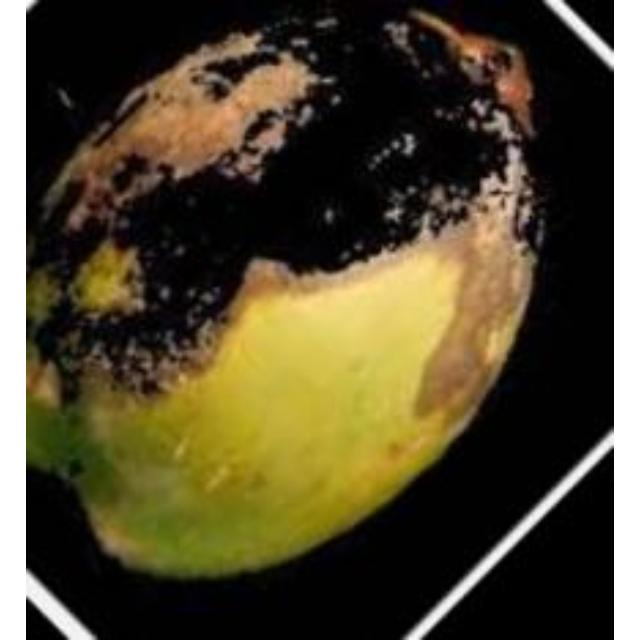damaged: (26, 0, 551, 583)
